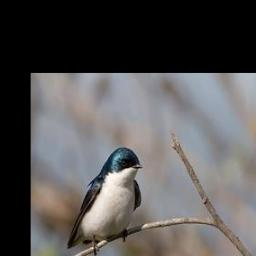Swallow: (66, 146, 142, 256)
